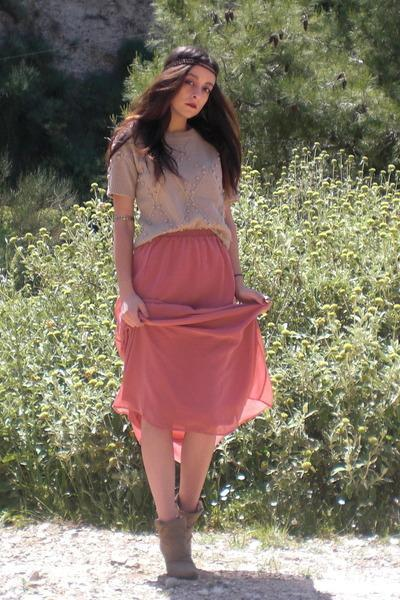shirt: (106, 118, 244, 244)
shoe: (141, 495, 201, 580)
skirt: (116, 226, 277, 443)
